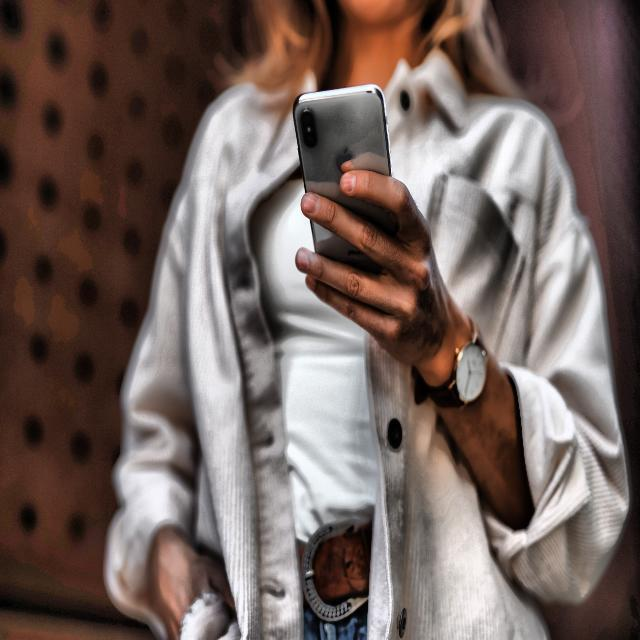Phone: (291, 82, 400, 273)
